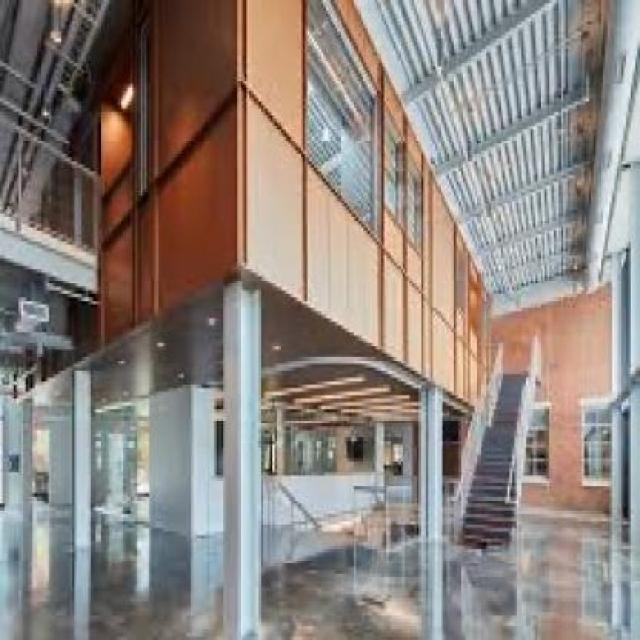stair: (452, 357, 534, 543)
